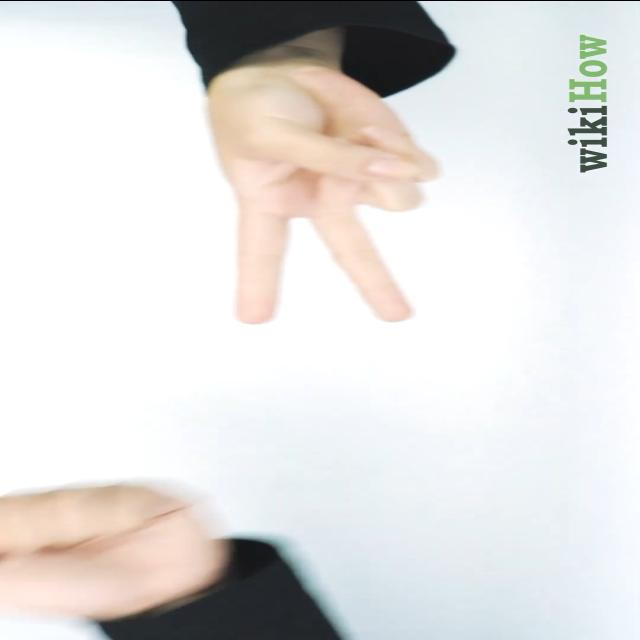Rock: (0, 482, 221, 622)
Scissors: (203, 61, 441, 322)
